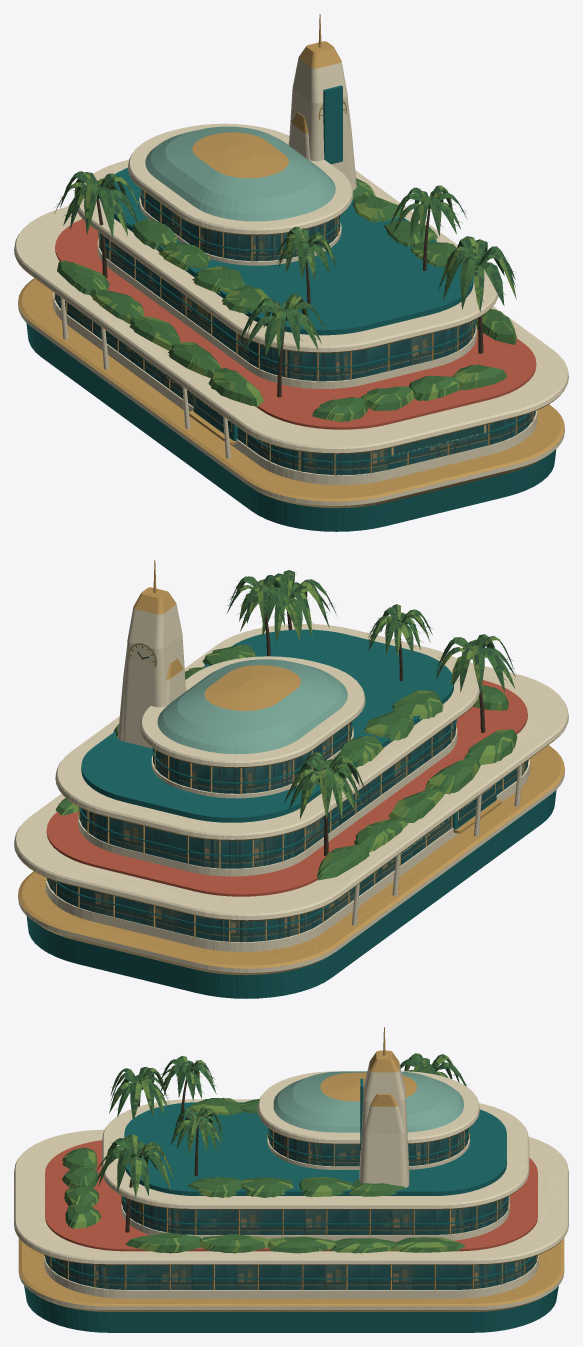
Rendered from FerryPavilion.fbx.
3 renders of one model, top to bottom at view 1: azimuth 30°, elevation 25°; view 2: azimuth 150°, elevation 25°; view 3: azimuth 270°, elevation 25°, orthographic. The views are drawn at different scales.
Visible parts, largest first — view 1: FerryPavilion Close, FerryPavilion Horizon, FerryPavilion Street; view 2: FerryPavilion Close, FerryPavilion Street, FerryPavilion Horizon; view 3: FerryPavilion Close, FerryPavilion Street, FerryPavilion Horizon.
Part boxes in pixels (x1,y1,x2,y2): FerryPavilion Close: (14, 14, 568, 531); FerryPavilion Horizon: (16, 41, 566, 498); FerryPavilion Street: (14, 41, 568, 531); FerryPavilion Close: (14, 560, 568, 998); FerryPavilion Street: (14, 574, 568, 998); FerryPavilion Horizon: (16, 575, 565, 965); FerryPavilion Close: (14, 1027, 568, 1332); FerryPavilion Street: (15, 1051, 566, 1331); FerryPavilion Horizon: (15, 1051, 566, 1303).
Size of the model in its own units: 2560 by 2555 by 4600.
